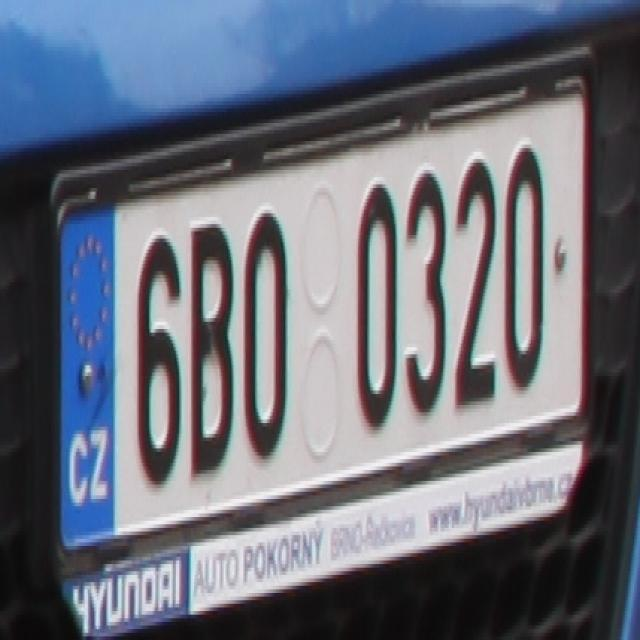0: (242, 214, 288, 456), (355, 188, 400, 430), (502, 138, 544, 384)
2: (452, 152, 495, 405)
3: (406, 166, 446, 412)
6: (136, 231, 182, 492)
B: (185, 221, 233, 477)
